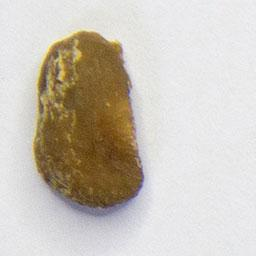defect: (25, 24, 153, 221)
